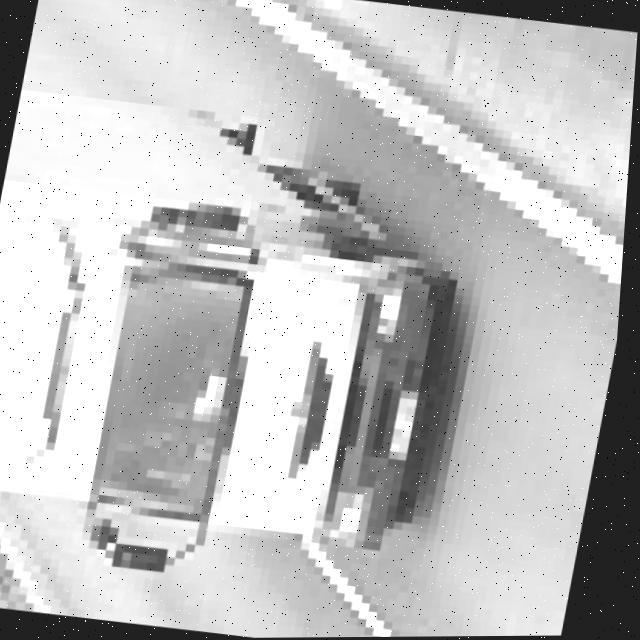truck: (0, 93, 486, 601)
